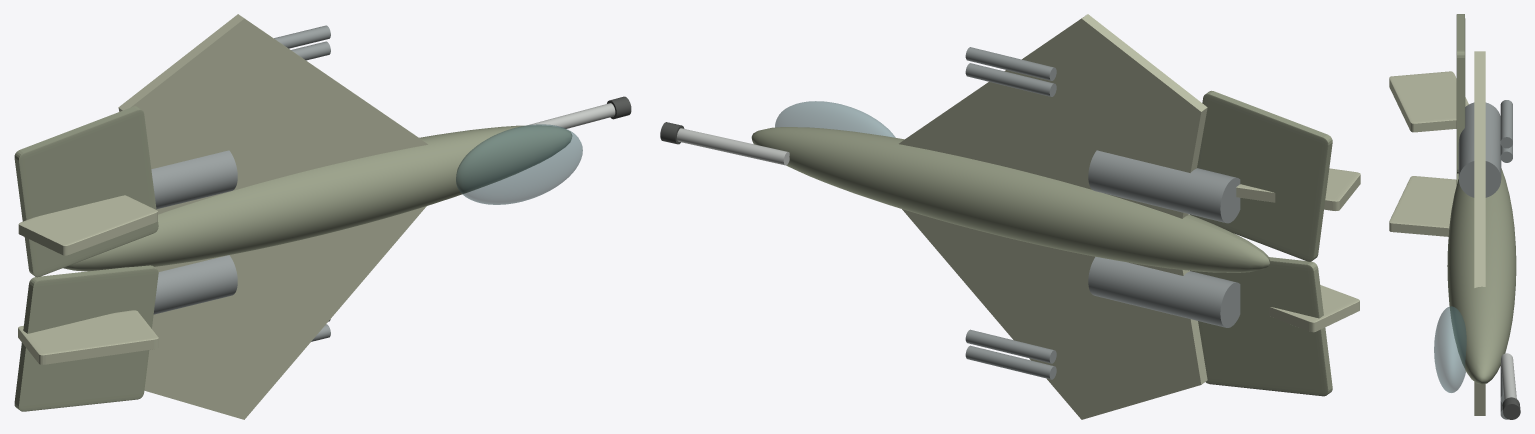
Rendered from v-u23-vanguard-interceptor-lod1.glb.
The picture shows the model from 3 angles, left to right: view 1: azimuth 30°, elevation 25°; view 2: azimuth 150°, elevation 25°; view 3: azimuth 270°, elevation 25°; orthographic projection. The views are drawn at different scales.
Parts seen in each view (by area): view 1: combat_main_wing, combat_fuselage, combat_tailplane_-1, combat_tailplane_1, combat_canopy, combat_fin_-1, combat_fin_1, combat_engine_1, combat_engine_0, combat_gun_barrel_0, combat_1_tube_2; view 2: combat_main_wing, combat_fuselage, combat_tailplane_1, combat_tailplane_-1, combat_engine_0, combat_engine_1, combat_canopy, combat_fin_-1, combat_gun_barrel_0, combat_fin_1, combat_-1_tube_2, combat_-1_tube_1 (+2 smaller); view 3: combat_fuselage, combat_fin_1, combat_main_wing, combat_fin_-1, combat_engine_1, combat_canopy, combat_tailplane_1, combat_1_tube_2, combat_gun_barrel_0, combat_gun_muzzle_0, combat_1_tube_1.
Part boxes in pixels (box(x1,y1,x2,y2)): combat_main_wing: box(118, 14, 427, 419); combat_fuselage: box(63, 125, 571, 271); combat_tailplane_-1: box(14, 265, 158, 411); combat_tailplane_1: box(14, 106, 158, 277); combat_canopy: box(456, 124, 582, 204); combat_fin_-1: box(18, 310, 158, 364); combat_fin_1: box(18, 195, 157, 255); combat_engine_1: box(151, 150, 237, 209); combat_engine_0: box(153, 255, 237, 314); combat_gun_barrel_0: box(526, 103, 615, 128); combat_1_tube_2: box(274, 25, 330, 48); combat_main_wing: box(899, 14, 1207, 419); combat_fuselage: box(751, 127, 1269, 272); combat_tailplane_1: box(1190, 90, 1332, 261); combat_tailplane_-1: box(1190, 257, 1332, 396); combat_engine_0: box(1088, 256, 1240, 327); combat_engine_1: box(1088, 150, 1240, 223); combat_canopy: box(775, 101, 895, 137); combat_fin_-1: box(1269, 285, 1359, 332); combat_gun_barrel_0: box(677, 128, 789, 165); combat_fin_1: box(1236, 168, 1360, 210); combat_-1_tube_2: box(965, 329, 1056, 363); combat_-1_tube_1: box(965, 345, 1056, 379); combat_fuselage: box(1447, 168, 1516, 384); combat_fin_1: box(1389, 71, 1468, 132); combat_main_wing: box(1474, 51, 1485, 415); combat_fin_-1: box(1389, 176, 1456, 236); combat_engine_1: box(1458, 102, 1501, 197); combat_canopy: box(1434, 306, 1466, 392); combat_tailplane_1: box(1456, 14, 1465, 173); combat_1_tube_2: box(1500, 100, 1512, 148); combat_gun_barrel_0: box(1500, 353, 1516, 399); combat_gun_muzzle_0: box(1502, 397, 1520, 419); combat_1_tube_1: box(1500, 144, 1512, 162).
Size of what is drawn, in the model's own units: 12.82 by 7.66 by 2.5.
